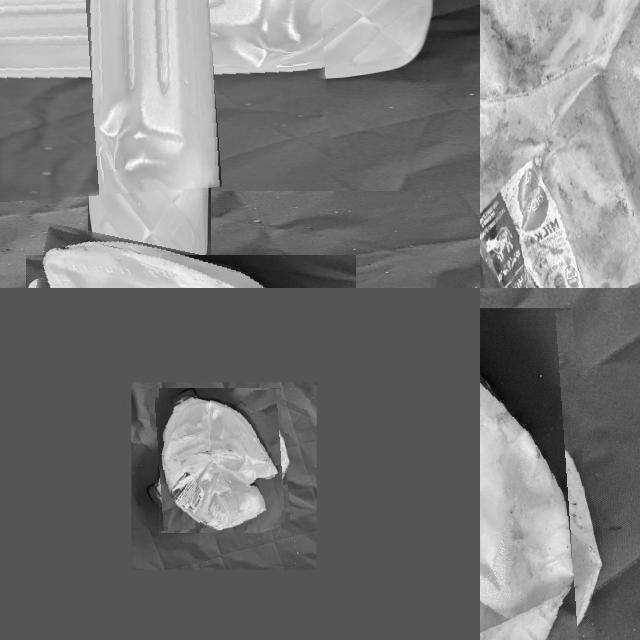milk-jug: (0, 0, 327, 195), (480, 0, 640, 288), (480, 316, 595, 640), (150, 391, 288, 528), (18, 238, 364, 288)
